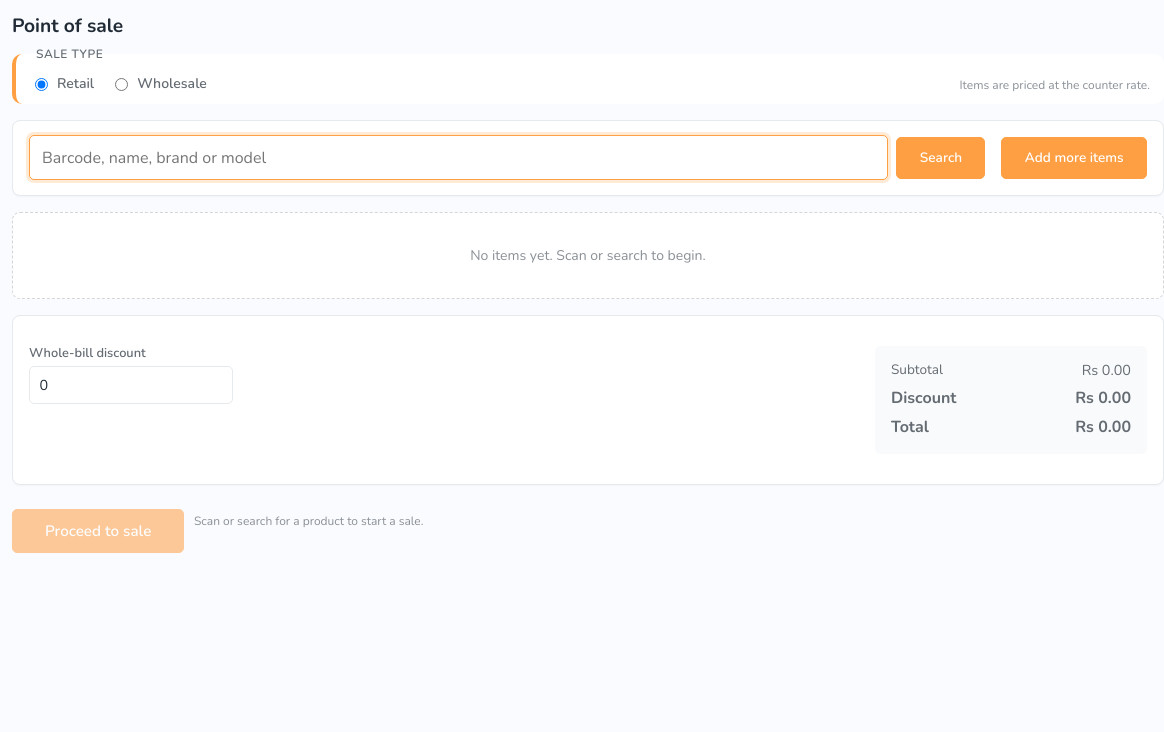
Test: PosPage lookup › treats a one-letter search the server refuses as no product found
The image size is (1164, 732).
In the field named "scan or search": (459, 158) left=29, top=135, right=888, bottom=180, type "c"
Then press Enter
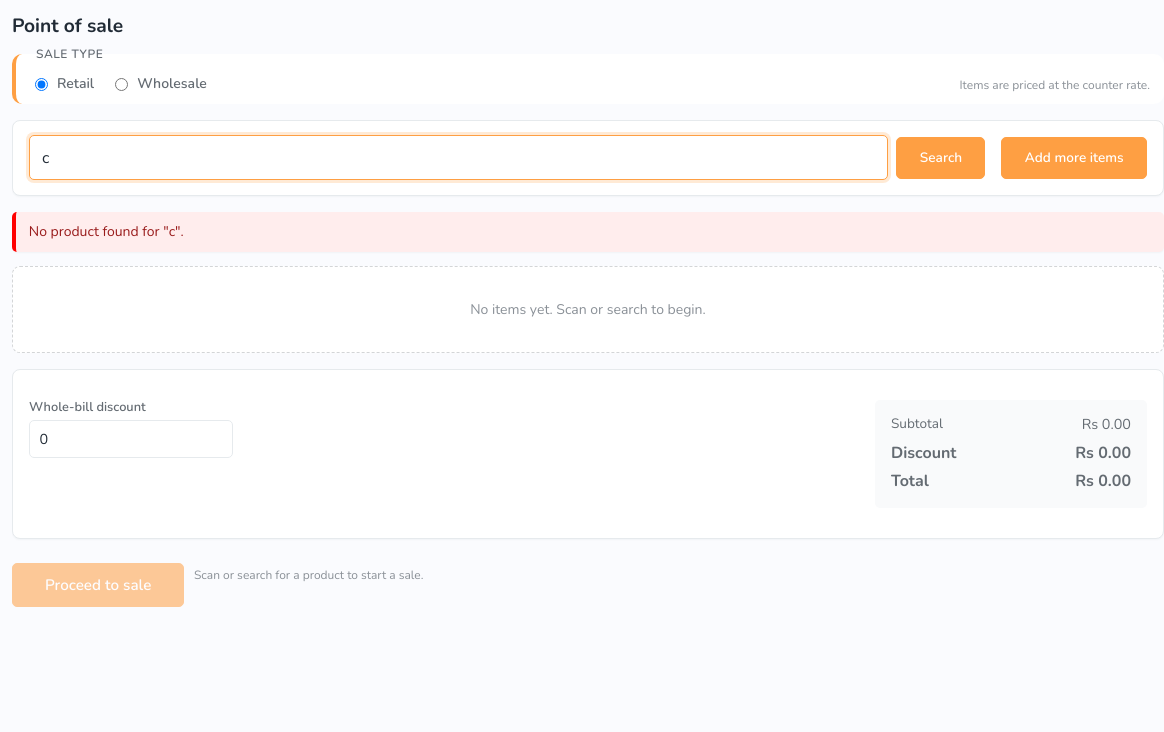
Result: the text "No product found for \"c\"." is shown at left=12, top=212, right=1163, bottom=252
